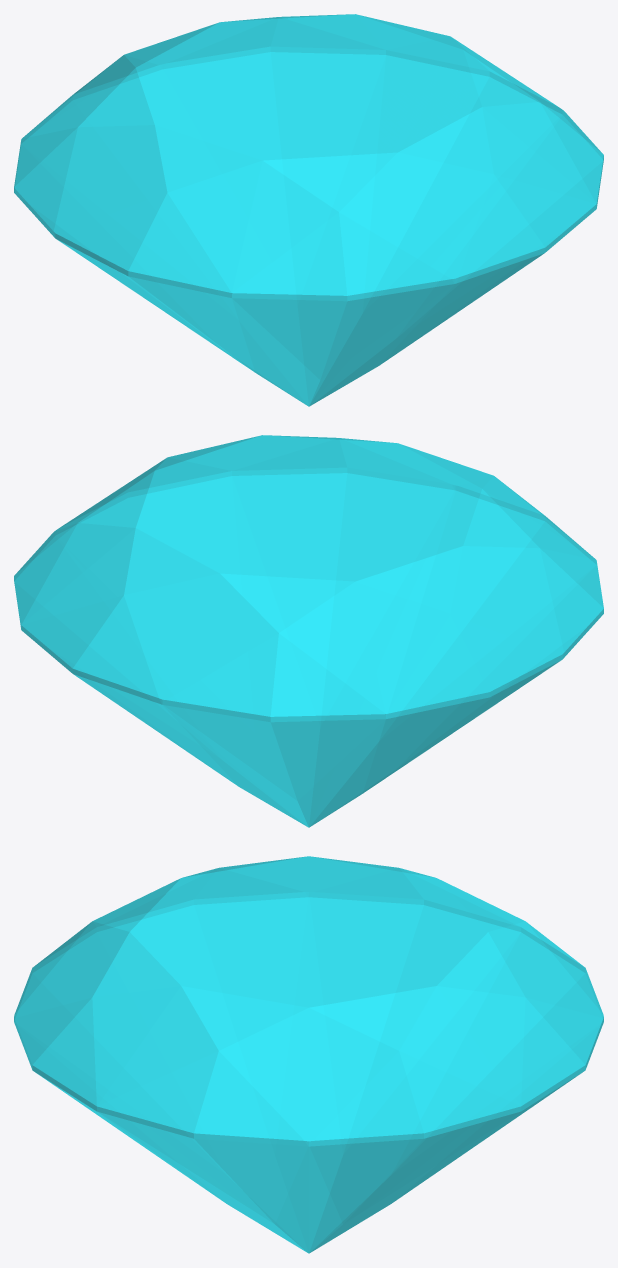
File: round aquamarine.glb
3 views of the same model, one above another, from view 1: azimuth 30°, elevation 25°; view 2: azimuth 150°, elevation 25°; view 3: azimuth 270°, elevation 25° (orthographic).
Parts seen in each view (by area): view 1: White_1_11.008; view 2: White_1_11.008; view 3: White_1_11.008.
Part boxes in pixels (<box>): White_1_11.008: <box>14,14,603,406</box>; White_1_11.008: <box>14,435,603,827</box>; White_1_11.008: <box>14,856,603,1253</box>.
Size of the model in its own units: 1.75 by 1.05 by 1.75.
